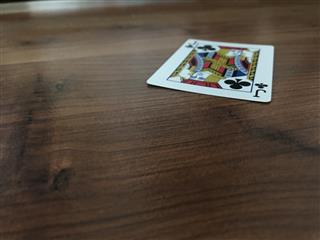JackOfClubs: (145, 37, 274, 102)
